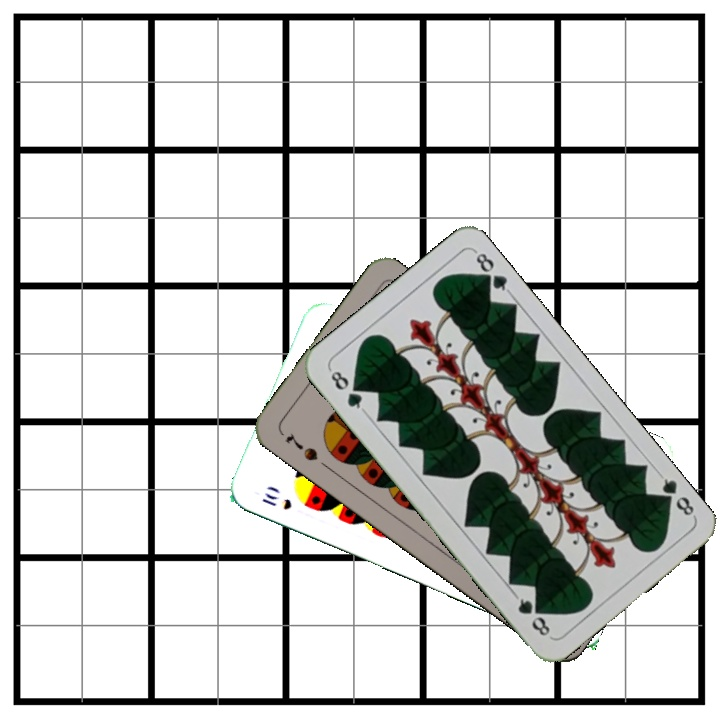G8: (653, 470, 698, 520), (325, 365, 368, 415)
S10: (258, 488, 295, 513)
S7: (281, 428, 321, 464)
